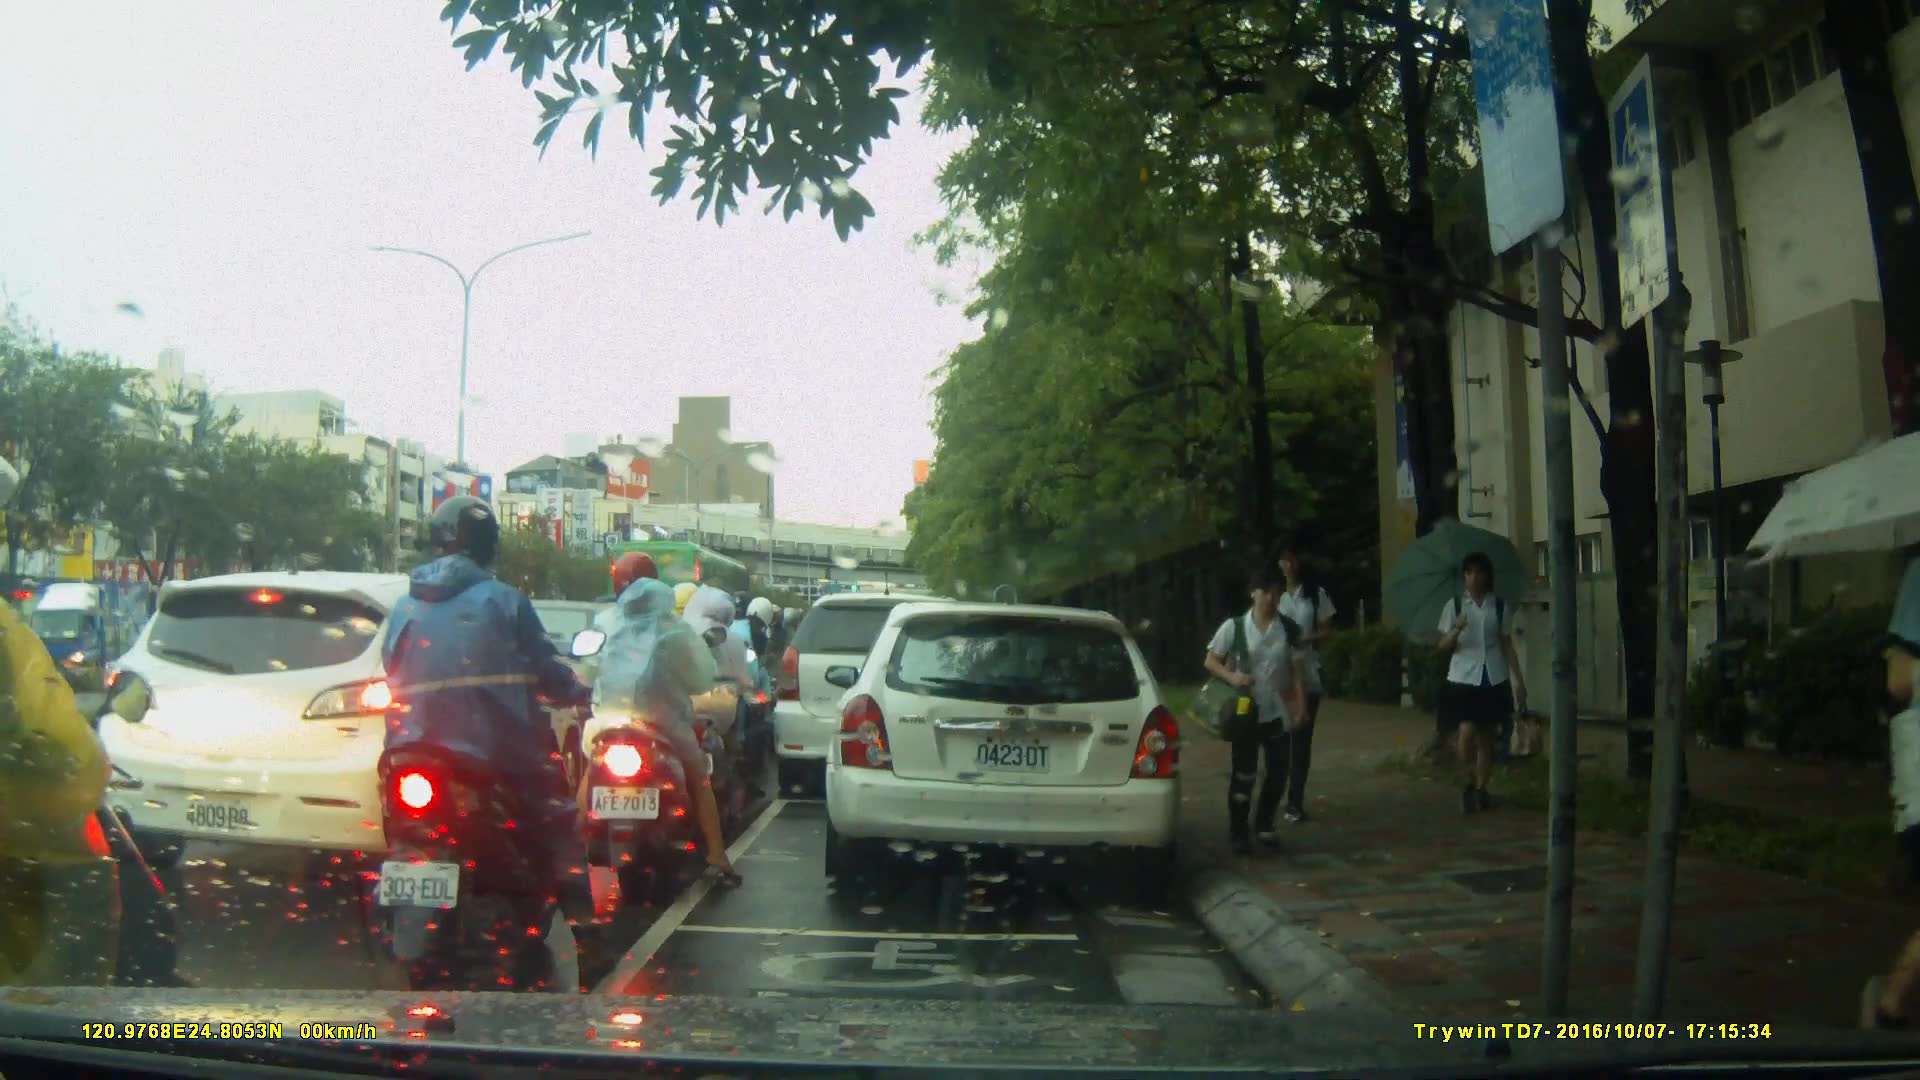pedestrian: (1203, 565, 1322, 849), (1421, 546, 1525, 823), (1872, 460, 1920, 1037), (1254, 538, 1344, 830)
rider: (377, 489, 612, 969), (1, 455, 181, 1080), (561, 554, 746, 903), (640, 578, 764, 823), (696, 594, 779, 776)
vehicle: (94, 569, 617, 883), (822, 604, 1187, 883), (774, 595, 995, 802), (20, 576, 199, 697)
